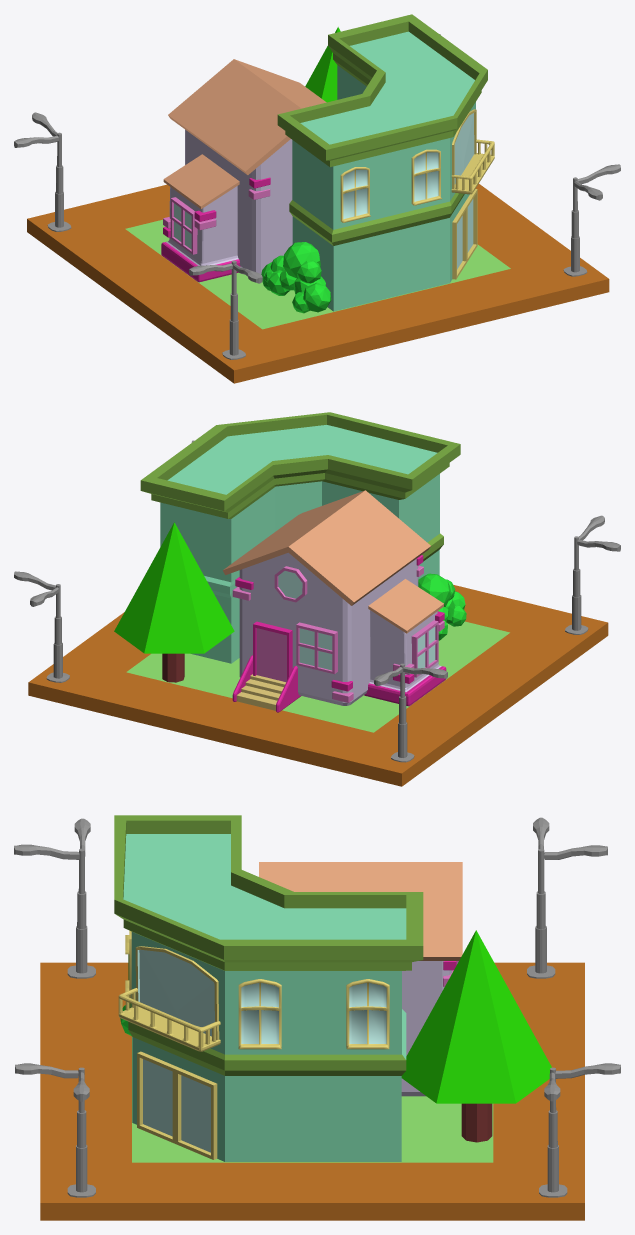
The model's file is Cidade_Quadra01.fbx.
3 renders of one model, top to bottom at view 1: azimuth 30°, elevation 25°; view 2: azimuth 150°, elevation 25°; view 3: azimuth 270°, elevation 25°, orthographic. The views are drawn at different scales.
Parts seen in each view (by area): view 1: Cube.008, Plane.004, Cube.016, Plane.001, Cube.011, Plane.005, Cube.012, Folha_5.001, Cube.010, Cube.017, Cube.013, Cube.001 (+6 smaller); view 2: Cube.008, Plane.004, Cube.016, Cube.011, Cone, Plane.001, Plane.005, Cube.012, Cube.017, Cube.019, Cube.018, Folha_5.001 (+8 smaller); view 3: Cube.008, Plane.004, Cone, Plane.001, Cube.016, Plane.005, Cube.013, Cube.009, Cube.015, Cube.011, Cube.014, Cube.021 (+4 smaller).
Boxes of the visible parts, <box> form: Cube.008: <box>277,14,487,311</box>; Plane.004: <box>27,184,608,370</box>; Cube.016: <box>168,59,326,174</box>; Plane.001: <box>27,219,609,383</box>; Cube.011: <box>185,129,292,274</box>; Plane.005: <box>125,219,510,329</box>; Cube.012: <box>161,186,240,282</box>; Folha_5.001: <box>261,242,331,313</box>; Cube.010: <box>340,149,441,222</box>; Cube.017: <box>163,154,239,208</box>; Cube.013: <box>452,189,477,279</box>; Cube.001: <box>189,260,262,359</box>; Cube.008: <box>140,412,460,663</box>; Plane.004: <box>29,585,607,773</box>; Cube.016: <box>223,490,430,605</box>; Cube.011: <box>239,552,418,705</box>; Cone: <box>114,522,234,653</box>; Plane.001: <box>28,623,608,786</box>; Plane.005: <box>126,621,509,732</box>; Cube.012: <box>364,610,446,706</box>; Cube.017: <box>368,579,443,633</box>; Cube.019: <box>253,621,292,681</box>; Cube.018: <box>296,622,337,674</box>; Folha_5.001: <box>418,573,466,640</box>; Cube.008: <box>114,815,423,1161</box>; Plane.004: <box>40,962,584,1202</box>; Cone: <box>401,930,551,1103</box>; Plane.001: <box>40,1203,584,1220</box>; Cube.016: <box>259,862,462,960</box>; Plane.005: <box>132,1037,493,1162</box>; Cube.013: <box>137,1051,217,1159</box>; Cube.009: <box>238,979,389,1049</box>; Cube.015: <box>135,946,219,1039</box>; Cube.011: <box>401,961,451,1096</box>; Cube.014: <box>118,988,220,1051</box>; Cube.021: <box>527,817,607,978</box>.
Size of the model in its own units: 793 by 323 by 736.
